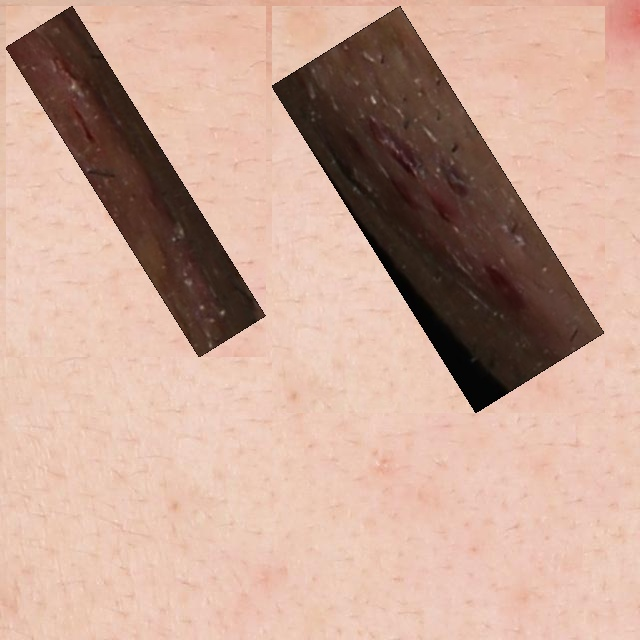nodule: (283, 17, 593, 401), (17, 17, 255, 346)
